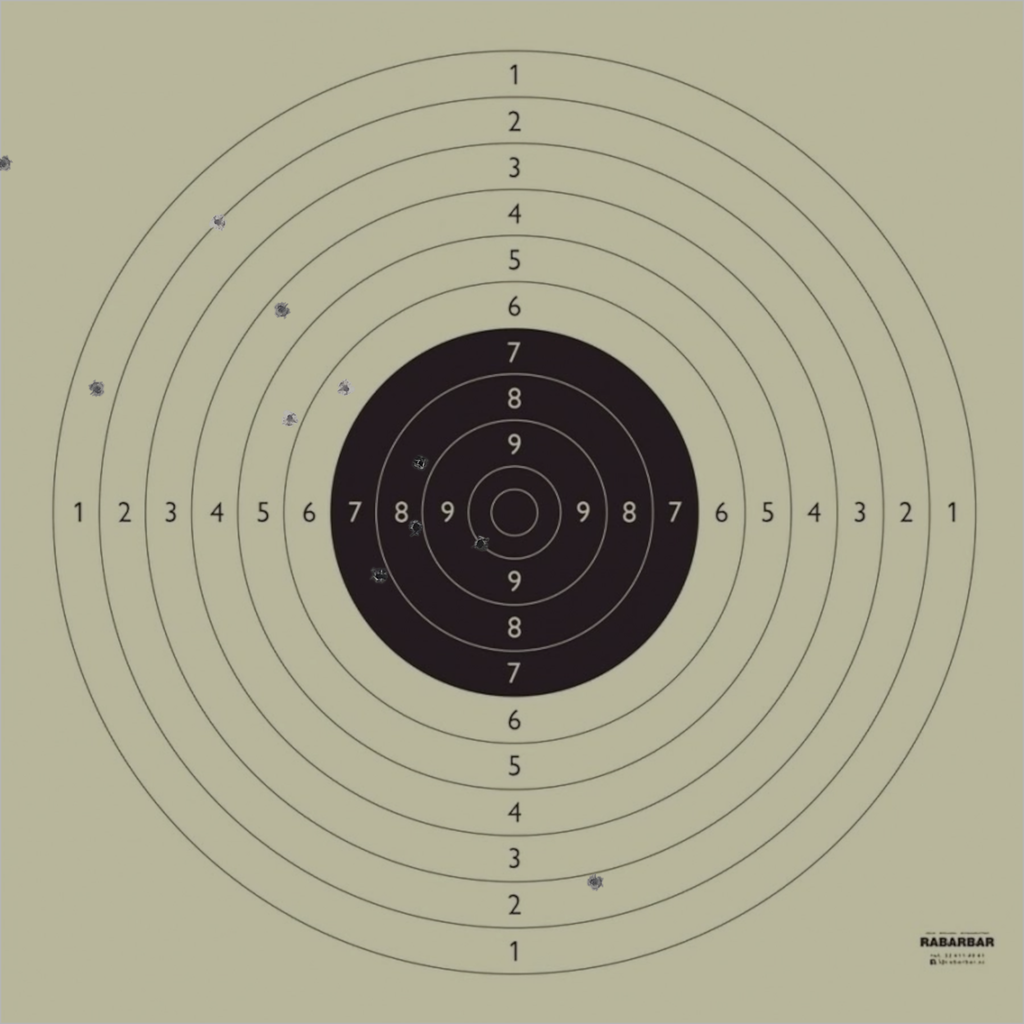0 punktow: (0, 155, 12, 173)
1 punkt: (88, 380, 106, 399)
10 punktow: (471, 534, 490, 553)
2 punkty: (209, 213, 227, 231)
3 punkty: (585, 873, 604, 891)
4 punkty: (272, 300, 291, 319)
5 punktow: (281, 409, 299, 428)
6 punktow: (336, 379, 355, 398)
7 punktow: (369, 567, 388, 585)
8 punktow: (412, 454, 430, 473)
9 punktow: (407, 518, 425, 537)
